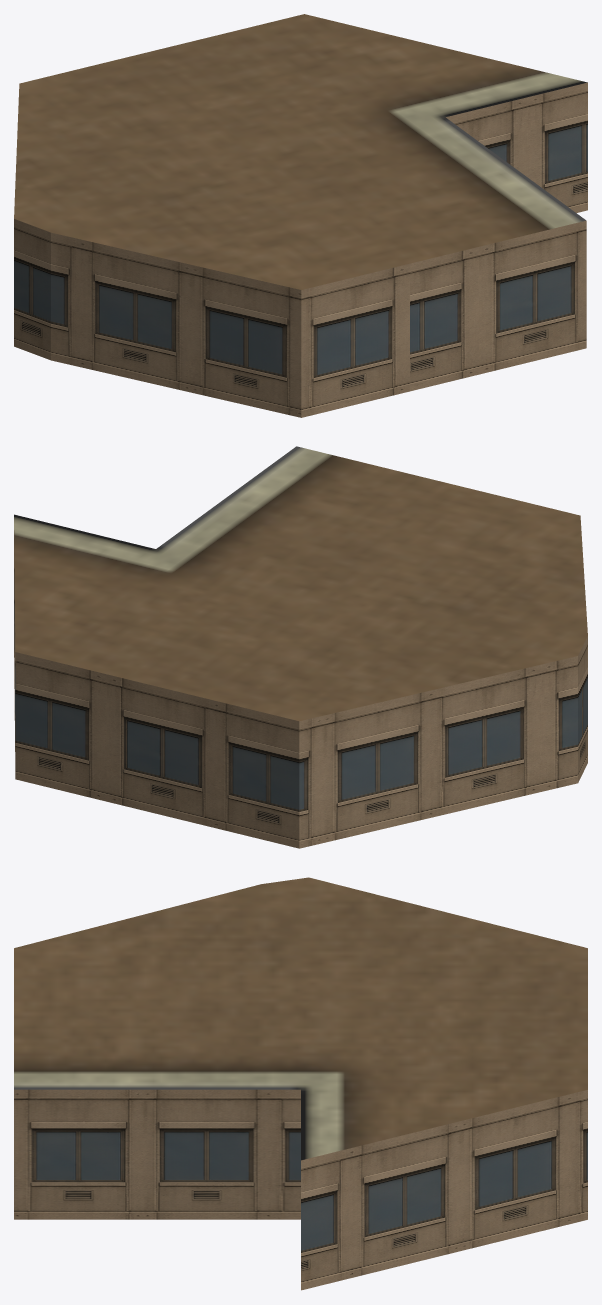
Rendered from light_roof59.glb.
3 views of the same model, one above another, from view 1: azimuth 30°, elevation 25°; view 2: azimuth 150°, elevation 25°; view 3: azimuth 270°, elevation 25° (orthographic). The views are drawn at different scales.
Parts seen in each view (by area): view 1: buildings/saxarba/light/light_roof59; view 2: buildings/saxarba/light/light_roof59; view 3: buildings/saxarba/light/light_roof59.
Boxes of the visible parts, <box> form: buildings/saxarba/light/light_roof59: <box>14,14,587,417</box>; buildings/saxarba/light/light_roof59: <box>14,446,587,848</box>; buildings/saxarba/light/light_roof59: <box>14,877,587,1290</box>.
Size of the model in its own units: 84 by 18 by 72.
